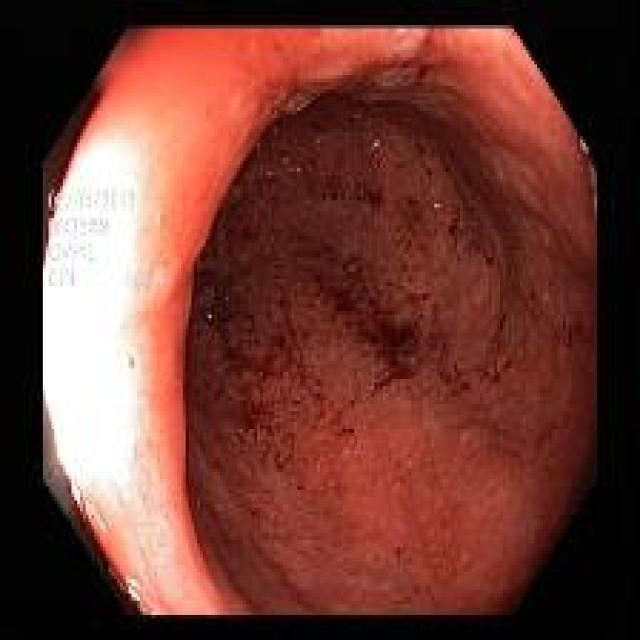ulcerative-colitis: (186, 94, 594, 612)
